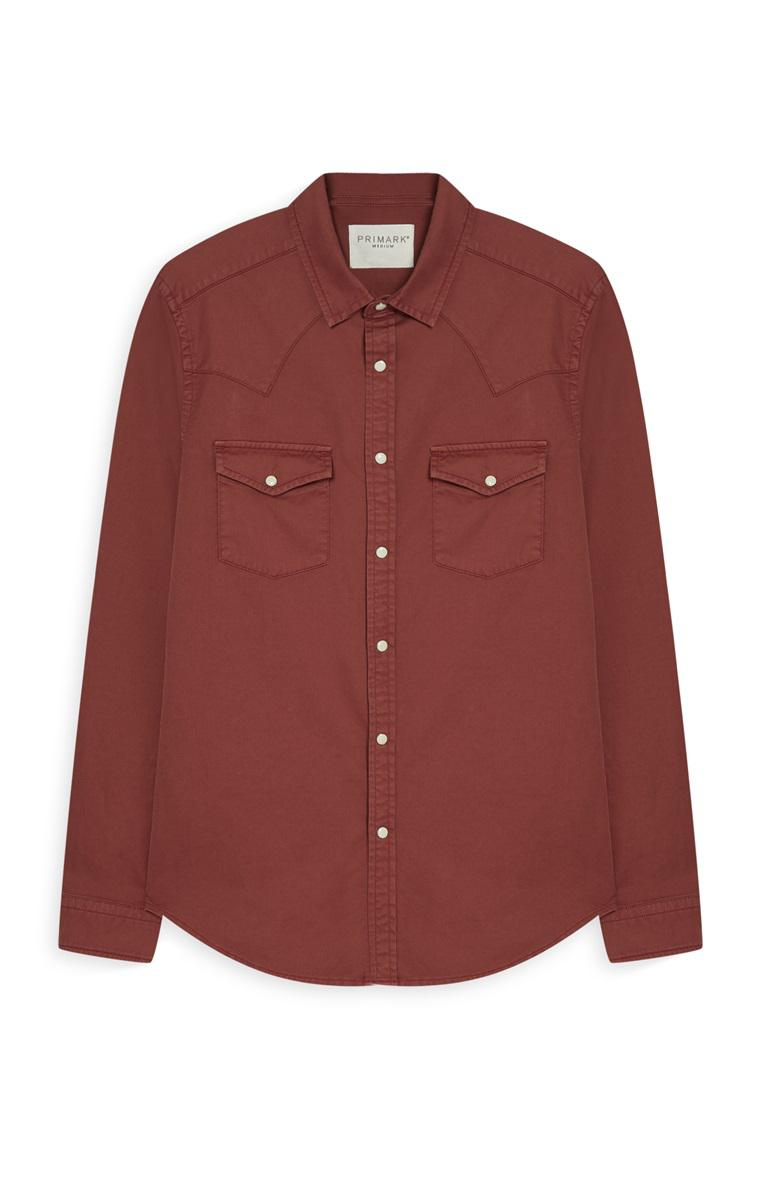teeshirt: (50, 170, 709, 1031)
